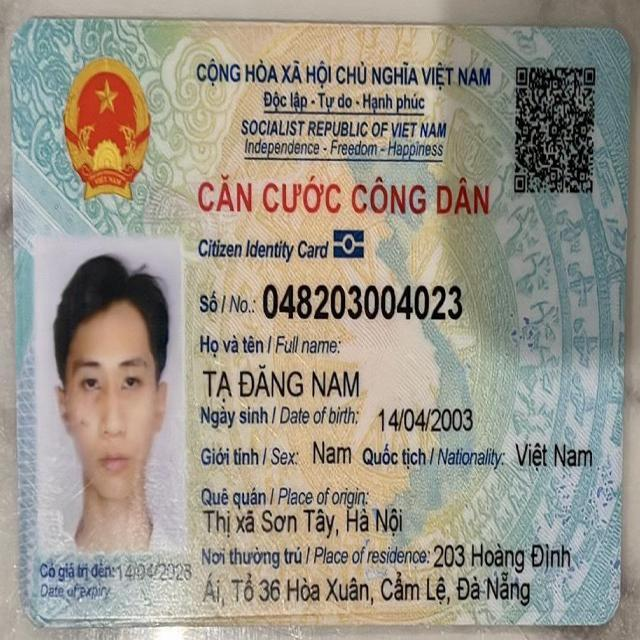current_place: (200, 569, 532, 611), (431, 540, 573, 575)
dob: (376, 403, 475, 436)
expire_date: (115, 560, 194, 584)
gender: (311, 438, 354, 468)
id: (260, 279, 465, 326)
name: (201, 361, 362, 405)
nationality: (513, 439, 594, 473)
origin_place: (201, 506, 405, 540)
